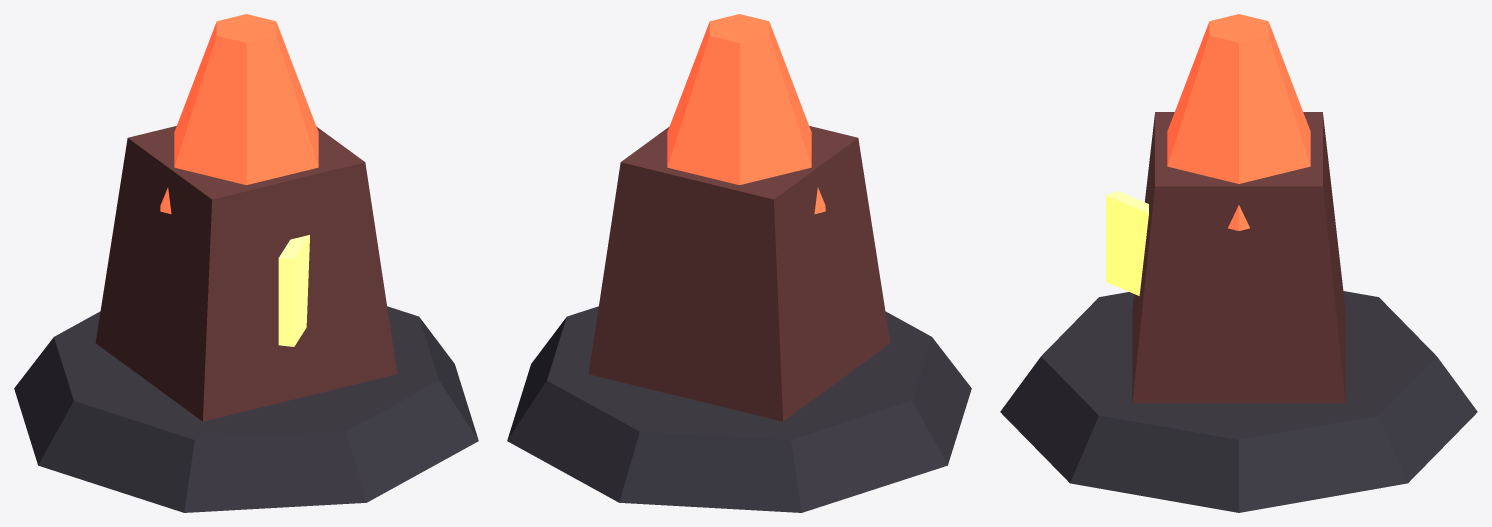
File: SealStone.glb
The picture shows the model from 3 angles, left to right: view 1: azimuth 30°, elevation 25°; view 2: azimuth 150°, elevation 25°; view 3: azimuth 270°, elevation 25°; orthographic projection.
Visible parts, largest first — view 1: SM_BOSS_SealStone; view 2: SM_BOSS_SealStone; view 3: SM_BOSS_SealStone.
Boxes of the visible parts, x1,y1,x2,y2 form: SM_BOSS_SealStone: [14, 14, 478, 512]; SM_BOSS_SealStone: [507, 14, 971, 512]; SM_BOSS_SealStone: [1000, 14, 1477, 512].
Bounding box in the file's own units: 1.4 × 1.24 × 1.4.
